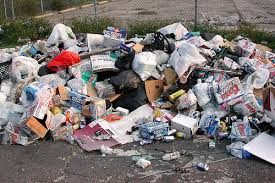garbage: (2, 36, 275, 148), (54, 25, 275, 142)
